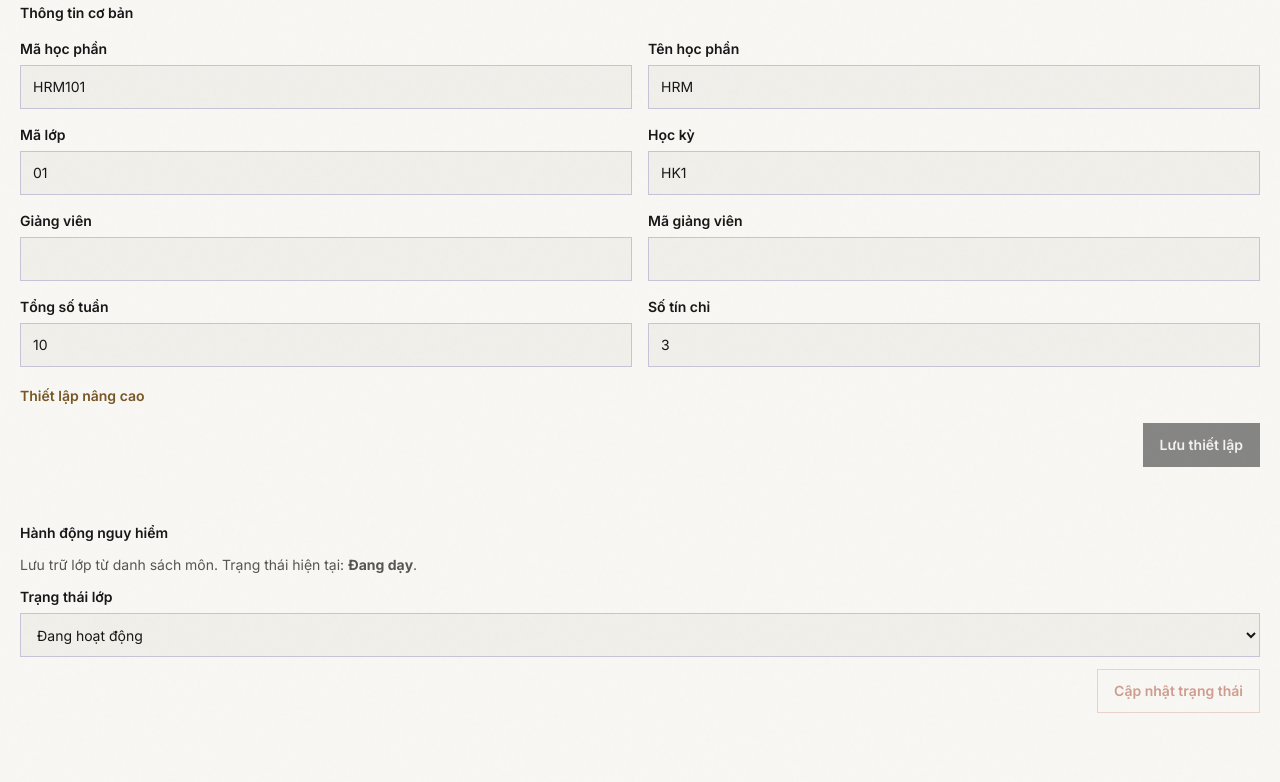
it: SettingsForm › keeps advanced scoring fields closed by default without dropping values
Expected: the field labelled "Mã lớp" holds "01", [20,151,632,195]
Expected: the field labelled "Chuyên cần tối đa" is not shown
Click the button "Thiết lập nâng cao" at (82, 396), box [20,386,144,406]
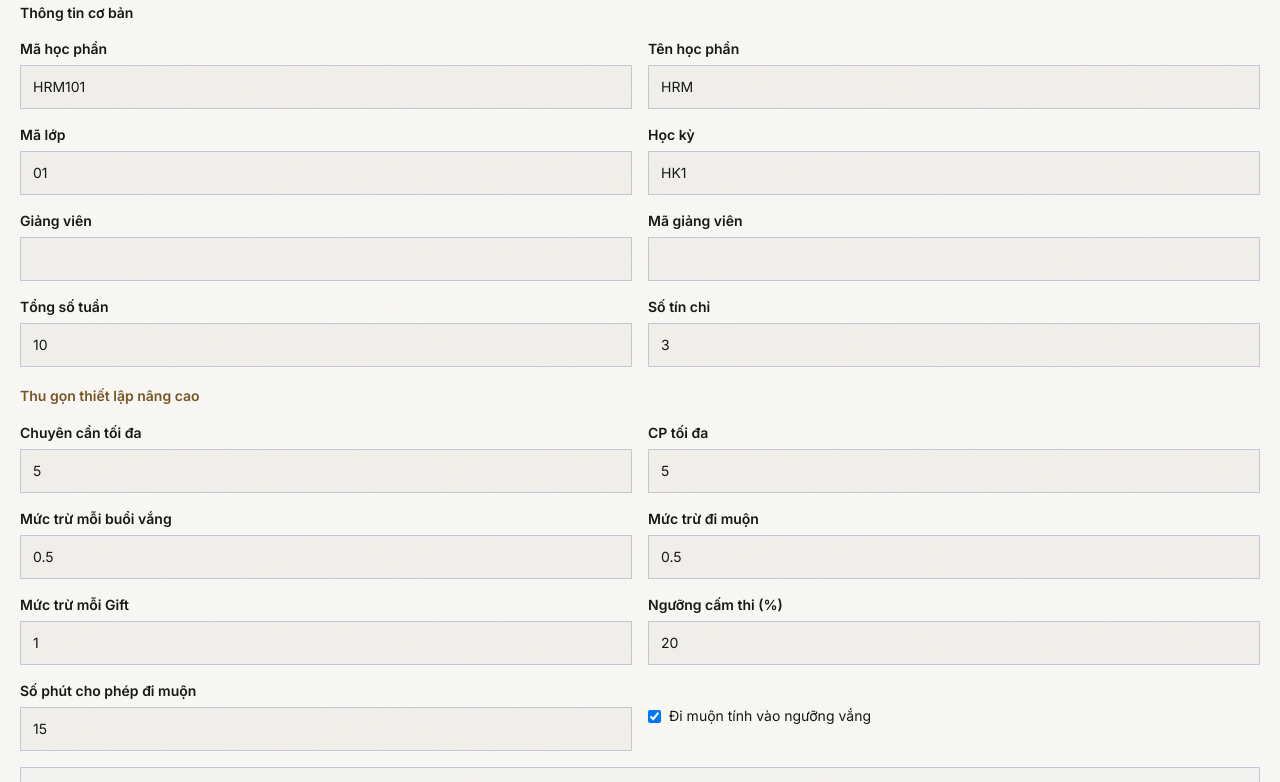
Now the number field labelled "Chuyên cần tối đa" holds "5"
Replace the text in the number field labelled "Chuyên cần tối đa" with "6" at (326, 471), box [20,449,632,493]
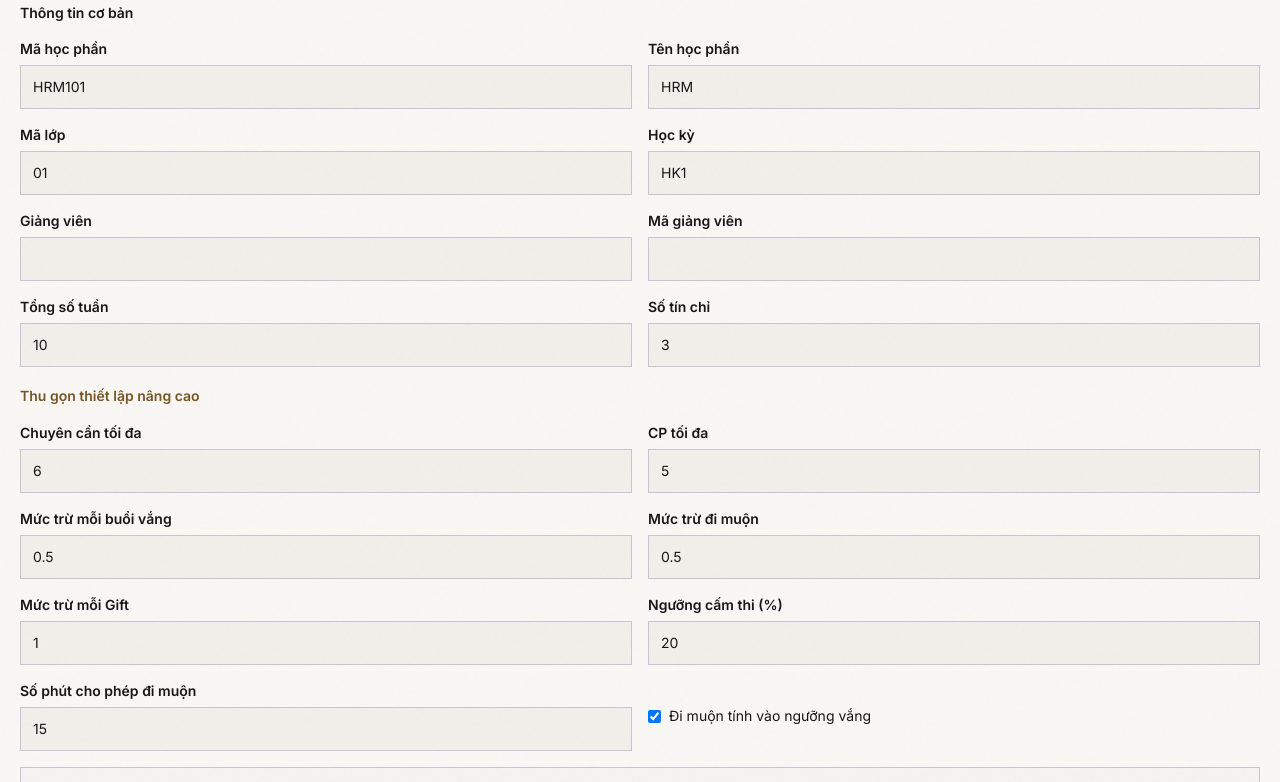
Click the button "Thu gọn thiết lập nâng cao" at (110, 396), box [20,386,200,406]
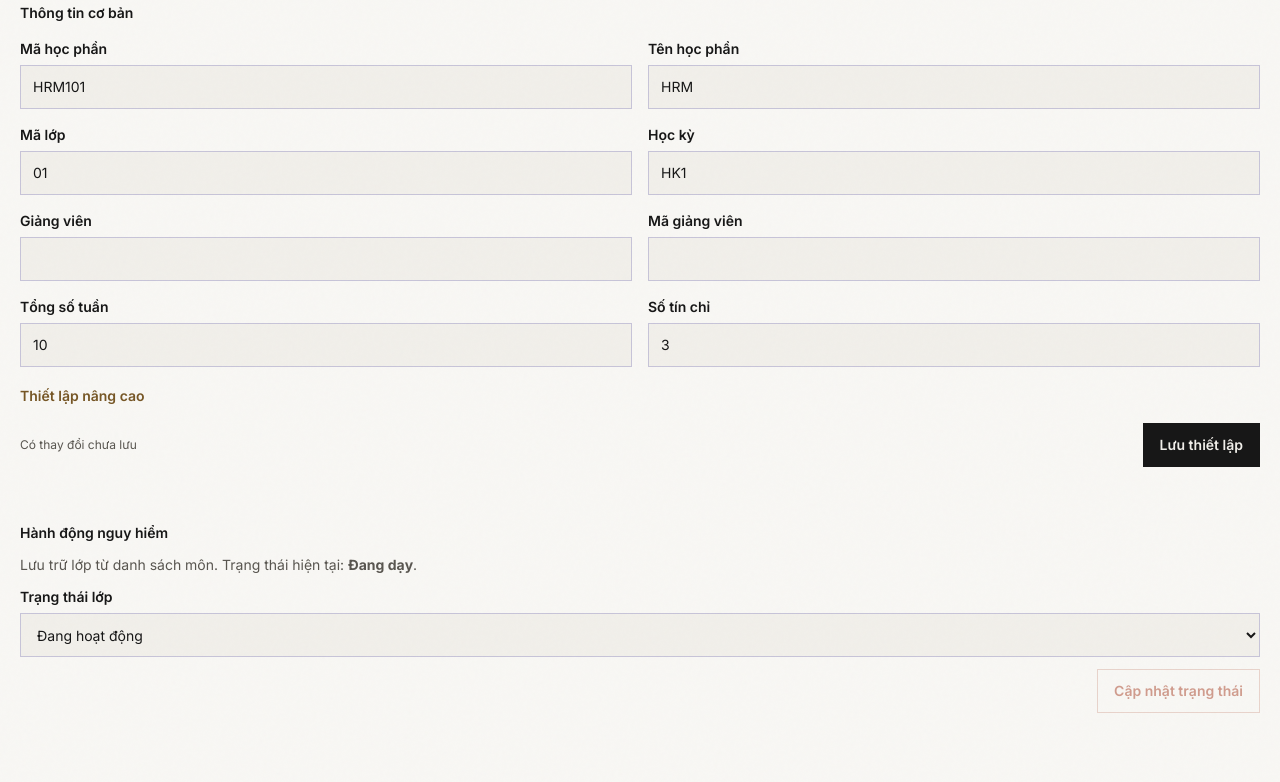
Now the text labelled "Chuyên cần tối đa" is gone
Click the button "Thiết lập nâng cao" at (82, 396), box [20,386,144,406]
(page scrolled)
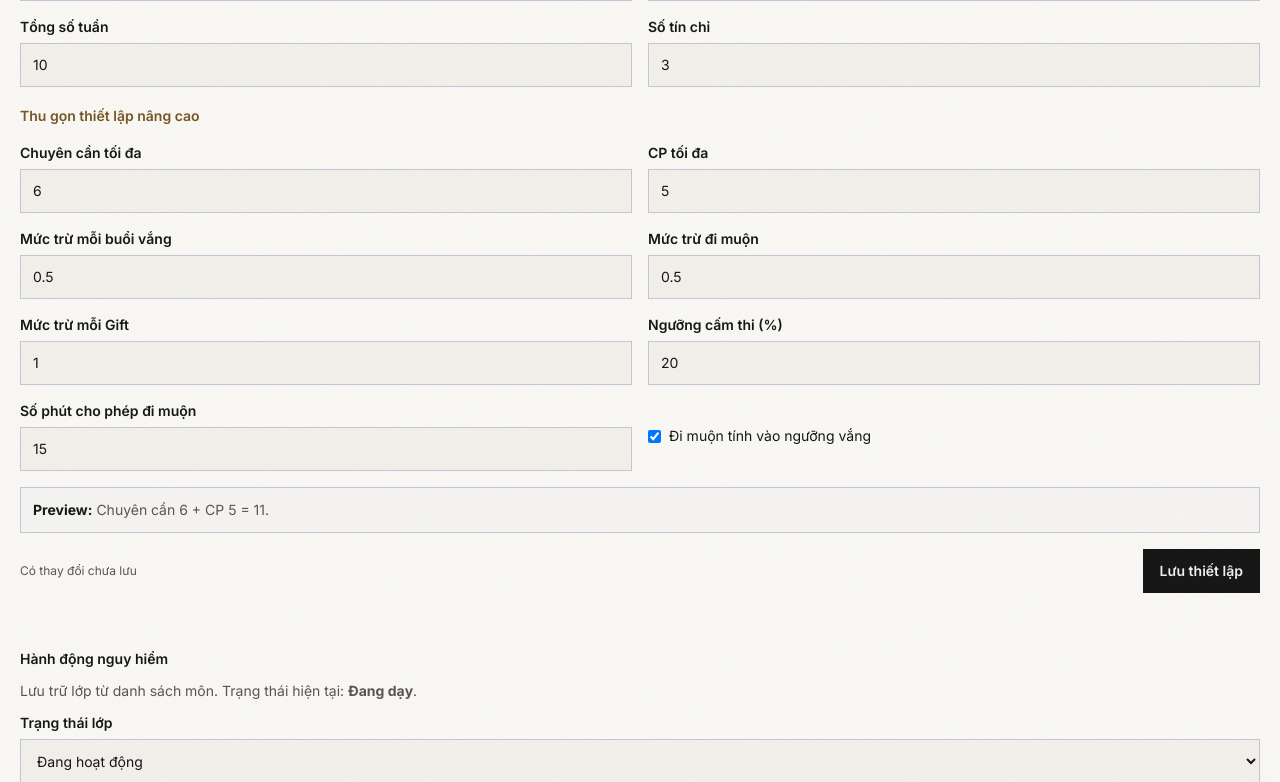
Expected: the heading "Hành động nguy hiểm" is shown, [20,650,168,667]
Now the number field labelled "Chuyên cần tối đa" holds "6", box [20,169,632,213]
